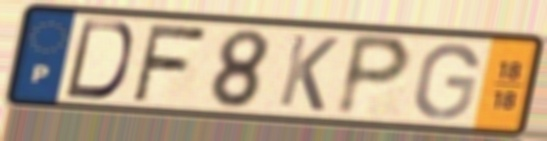8: (208, 26, 273, 111)
D: (60, 17, 136, 102)
F: (128, 21, 211, 103)
G: (410, 41, 482, 122)
K: (274, 31, 342, 115)
P: (331, 30, 416, 121)
